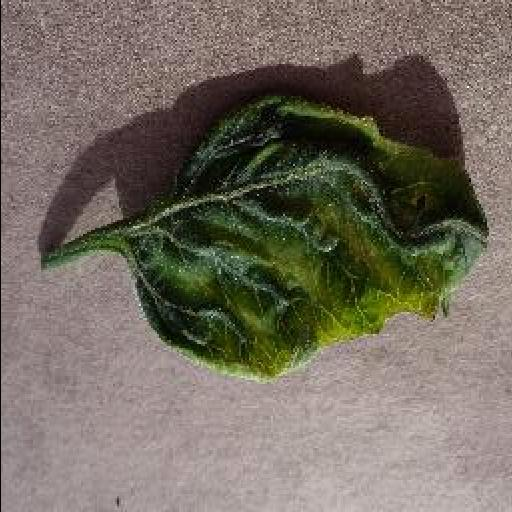disease_tomato: (120, 96, 490, 380)
